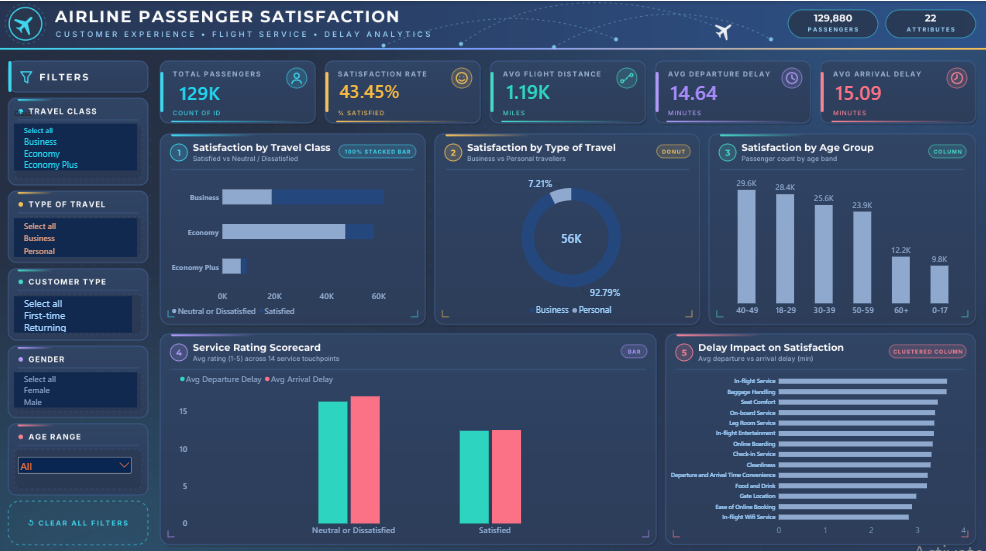

What the dashboard file says about the page in this screenshot:
{"tool":"powerbi","page":{"name":"Airline Dashboard","canvas":[2560,1440],"ordinal":0},"visuals":[{"type":"cardVisual","fields":{"Data":["Airline.Total Passengers"]},"box":[456.9,159,268.4,150.7],"z":0},{"type":"cardVisual","fields":{"Data":["Airline.Satisfaction Rate"]},"box":[870.4,147.5,268.4,167.2],"z":1},{"type":"cardVisual","fields":{"Data":["Airline.Avg Flight Distance"]},"box":[1301.2,147.5,268.4,171.4],"z":2},{"type":"cardVisual","fields":{"Data":["Airline.Avg Departure Delay"]},"box":[1723.4,150.4,268.4,169.3],"z":3},{"type":"cardVisual","fields":{"Data":["Airline.Avg Arrival Delay"]},"box":[2148.4,141.7,294.9,185.1],"z":4},{"type":"barChart","fields":{"Category":["Airline.Class"],"Series":["Airline.Satisfaction"],"Y":["Airline.Total Passengers"]},"box":[436.6,428,653.5,404.8],"z":5},{"type":"donutChart","fields":{"Category":["Airline.Type of Travel"],"Y":["Airline.Satisfied Passengers"]},"box":[1165.3,428,636.1,404.8],"z":6},{"type":"clusteredColumnChart","fields":{"Category":["Airline.Age Group"],"Y":["Airline.Total Passengers"]},"box":[1859.3,428,659.3,404.8],"z":7},{"type":"clusteredBarChart","fields":{"Category":["Service.Attribute"],"Y":["Airline.Avg Rating"]},"box":[1723.4,942.7,795.2,459.8],"z":8},{"type":"clusteredColumnChart","fields":{"Category":["Airline.Satisfaction"],"Y":["Airline.Avg Departure Delay","Airline.Avg Arrival Delay"]},"box":[456.9,942.7,1266.5,459.8],"z":9},{"type":"listSlicer","fields":{"Values":["Airline.Class"]},"box":[30.3,267,349.6,200.9],"z":10},{"type":"listSlicer","fields":{"Values":["Airline.Type of Travel"]},"box":[30.3,547.8,349.6,162.4],"z":11},{"type":"listSlicer","fields":{"Values":["Airline.Customer Type"]},"box":[30.3,748.7,349.6,126.6],"z":12},{"type":"listSlicer","fields":{"Values":["Airline.Gender"]},"box":[30.3,944.2,349.6,134.9],"z":13},{"type":"slicer","fields":{"Values":["Airline.Age Group"]},"box":[52.3,1172.6,302.8,85.3],"z":14}]}

Visuals, with their boxes in screenshot pixels (x1, y1, x2, y2), scaled from the page's 2560x1440 canvas onto the 986x551 screenshot:
cardVisual - Airline.Total Passengers: l=176, t=61, r=279, b=119
cardVisual - Airline.Satisfaction Rate: l=335, t=56, r=439, b=120
cardVisual - Airline.Avg Flight Distance: l=501, t=56, r=605, b=122
cardVisual - Airline.Avg Departure Delay: l=664, t=58, r=767, b=122
cardVisual - Airline.Avg Arrival Delay: l=827, t=54, r=941, b=125
barChart - Airline.Class x Airline.Satisfaction: l=168, t=164, r=420, b=319
donutChart - Airline.Type of Travel x Airline.Satisfied Passengers: l=449, t=164, r=694, b=319
clusteredColumnChart - Airline.Age Group x Airline.Total Passengers: l=716, t=164, r=970, b=319
clusteredBarChart - Service.Attribute x Airline.Avg Rating: l=664, t=361, r=970, b=537
clusteredColumnChart - Airline.Satisfaction x Airline.Avg Departure Delay: l=176, t=361, r=664, b=537
listSlicer - Airline.Class: l=12, t=102, r=146, b=179
listSlicer - Airline.Type of Travel: l=12, t=210, r=146, b=272
listSlicer - Airline.Customer Type: l=12, t=286, r=146, b=335
listSlicer - Airline.Gender: l=12, t=361, r=146, b=413
slicer - Airline.Age Group: l=20, t=449, r=137, b=481
